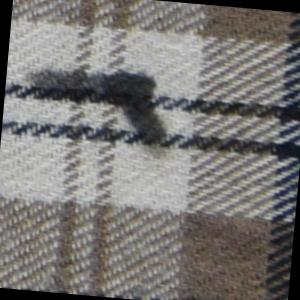Stain: (16, 54, 180, 162)
